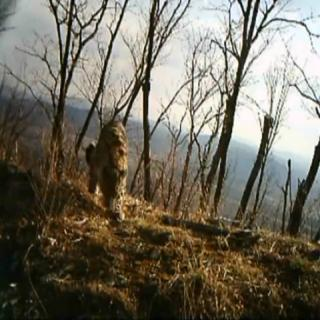Leopard: (74, 84, 146, 253)
